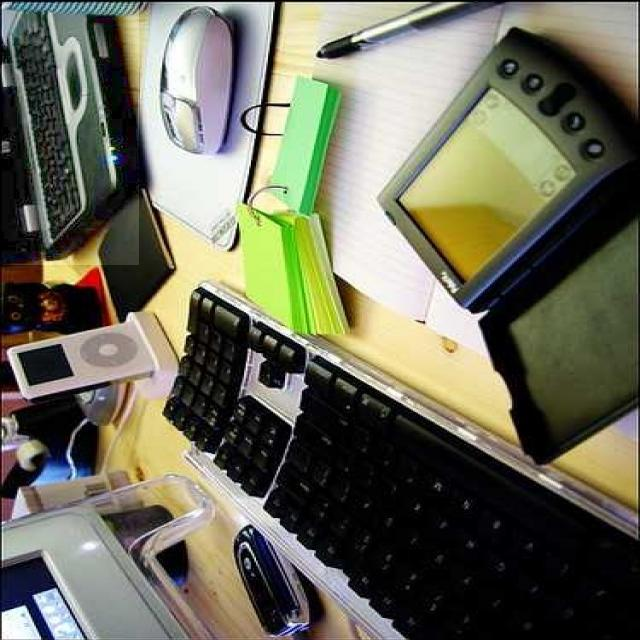-keyboard-: (2, 3, 139, 266)
